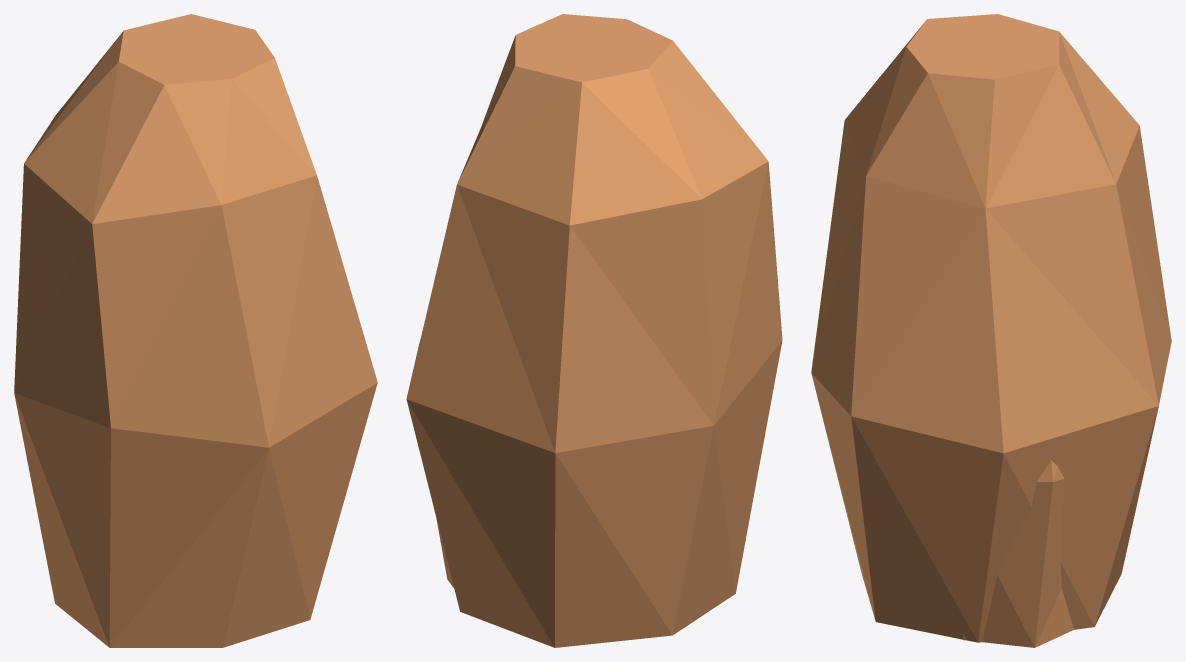
Rendered from termite_mound.fbx.
The picture shows the model from 3 angles, left to right: view 1: azimuth 30°, elevation 25°; view 2: azimuth 150°, elevation 25°; view 3: azimuth 270°, elevation 25°; orthographic projection.
Parts seen in each view (by area): view 1: termite_mound; view 2: termite_mound; view 3: termite_mound.
Part boxes in pixels (box(x1,y1,x2,y2)): termite_mound: box(14, 14, 377, 647); termite_mound: box(406, 14, 782, 647); termite_mound: box(811, 14, 1171, 647).
Bounding box in the file's own units: 1.5 × 2.5 × 1.5.
